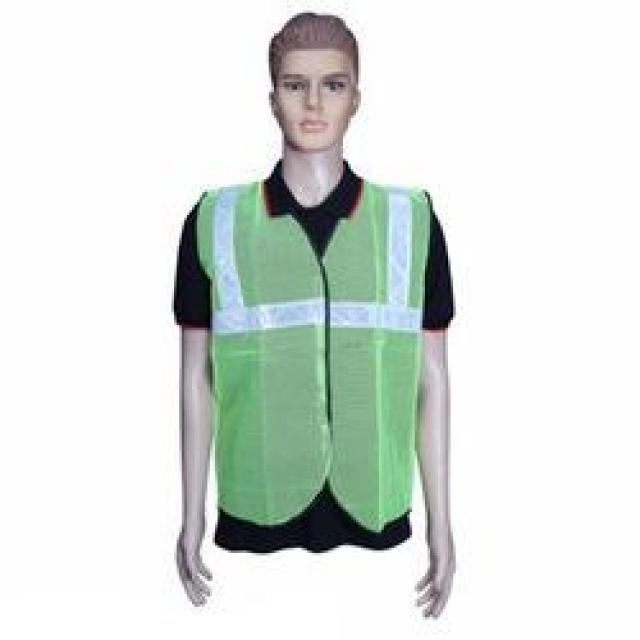Reflective-Jacket: (187, 166, 461, 558)
